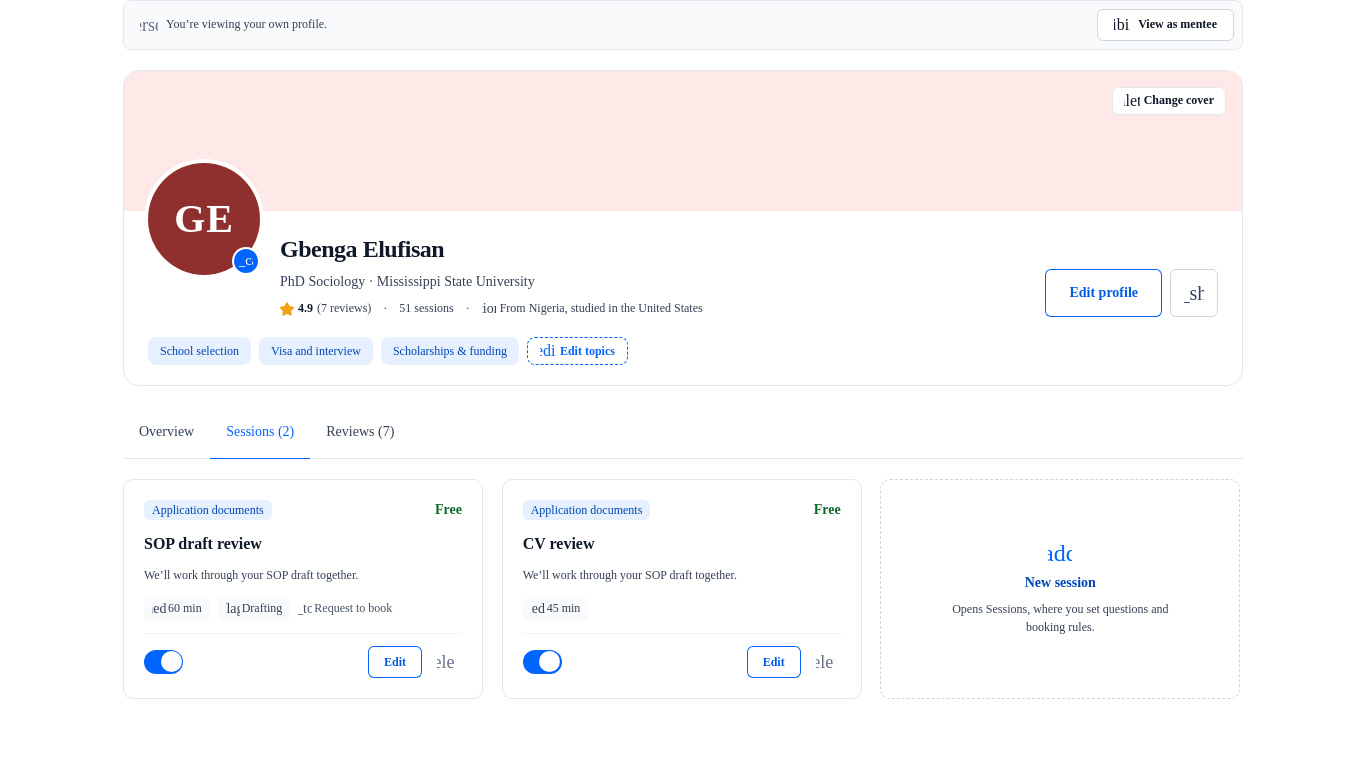
Scenario: MentorProfileScreen — the owner’s session types (active only) › a delete that couldn’t be confirmed closes the confirm and says so
Click the button with aria-label "Delete SOP draft review" at (446, 662), box [430,646,462,678]
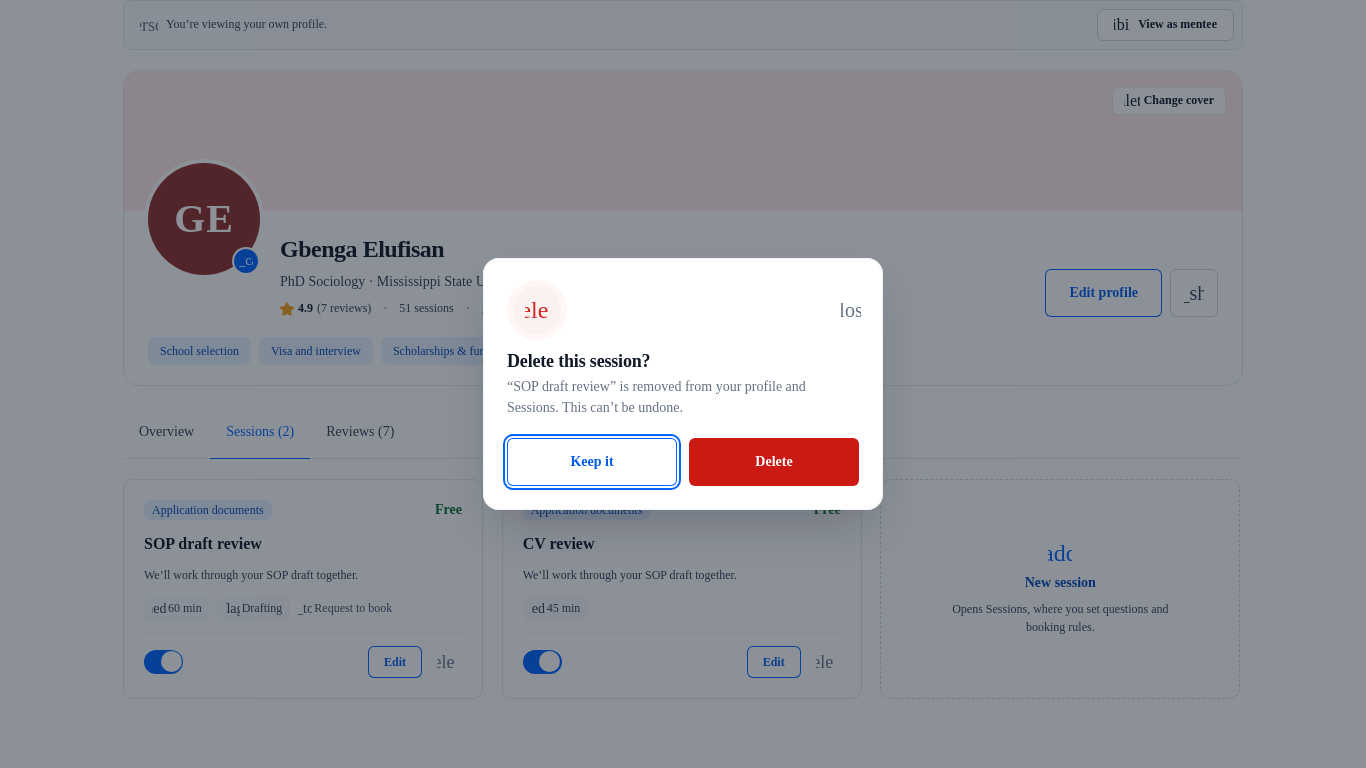
Click the button "Delete" at (774, 462), box [689,438,859,486]
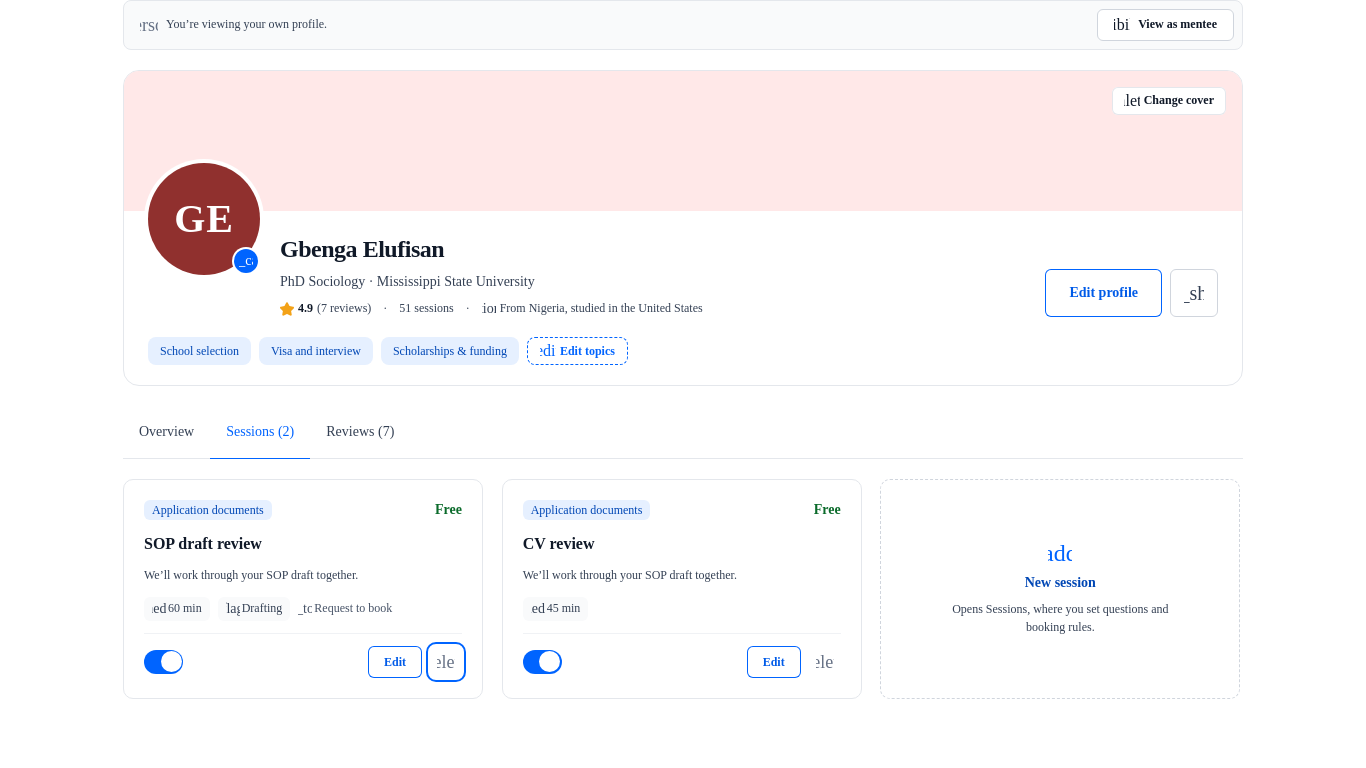
Expected: the dialog is gone
